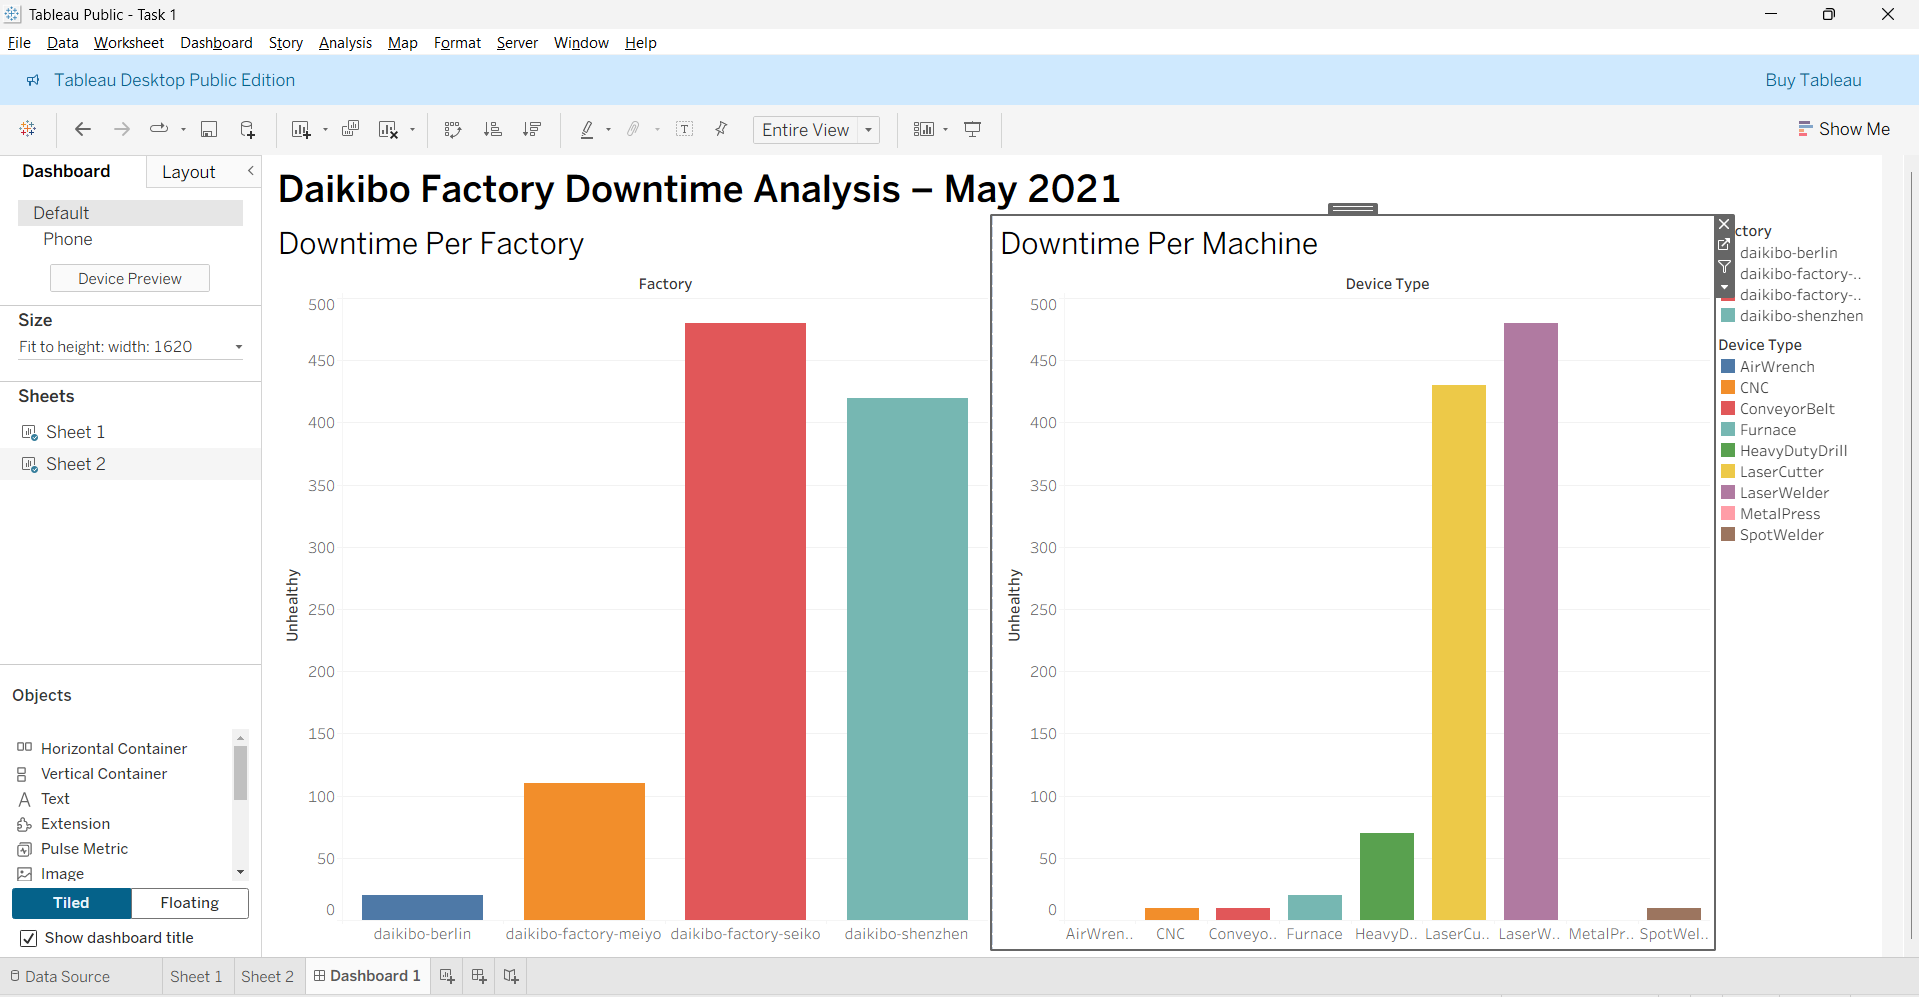

What the dashboard file says about the page in this screenshot:
{"tool":"tableau","page":{"name":"Dashboard 1","canvas":[1000,1000],"units":"permille","ordinal":0},"visuals":[{"type":"title","box":[4.9,10,990.1,66.1]},{"type":"worksheet","title":"Sheet 1","mark":"Automatic","rows":["Calculation_1002241828937728"],"cols":["factory"],"box":[4.9,76.1,445.7,914]},{"type":"worksheet","title":"Sheet 2","mark":"Automatic","rows":["Calculation_1002241828937728"],"cols":["deviceType"],"box":[450.6,76.1,445.7,914]},{"type":"legend","title":"Sheet 1","param":"[federated.0o6ija80zvpswg18rf2ki1506vfj].[none:factory:nk]","box":[896.3,76.1,98.8,142.2]},{"type":"legend","title":"Sheet 2","param":"[federated.0o6ija80zvpswg18rf2ki1506vfj].[none:deviceType:nk]","box":[896.3,218.2,98.8,273.1]}]}

Visuals, with their boxes on the dashboard's canvas, which has no fixed pixel size, in thousandths of its width and height (x1, y1, x2, y2). These are canvas units, not pixel positions in the 1919x997 screenshot, which may show the page scaled, cropped or inside an application window:
title: bbox=(5, 10, 995, 76)
"Sheet 1" worksheet: bbox=(5, 76, 451, 990)
"Sheet 2" worksheet: bbox=(451, 76, 896, 990)
"Sheet 1" legend: bbox=(896, 76, 995, 218)
"Sheet 2" legend: bbox=(896, 218, 995, 491)
